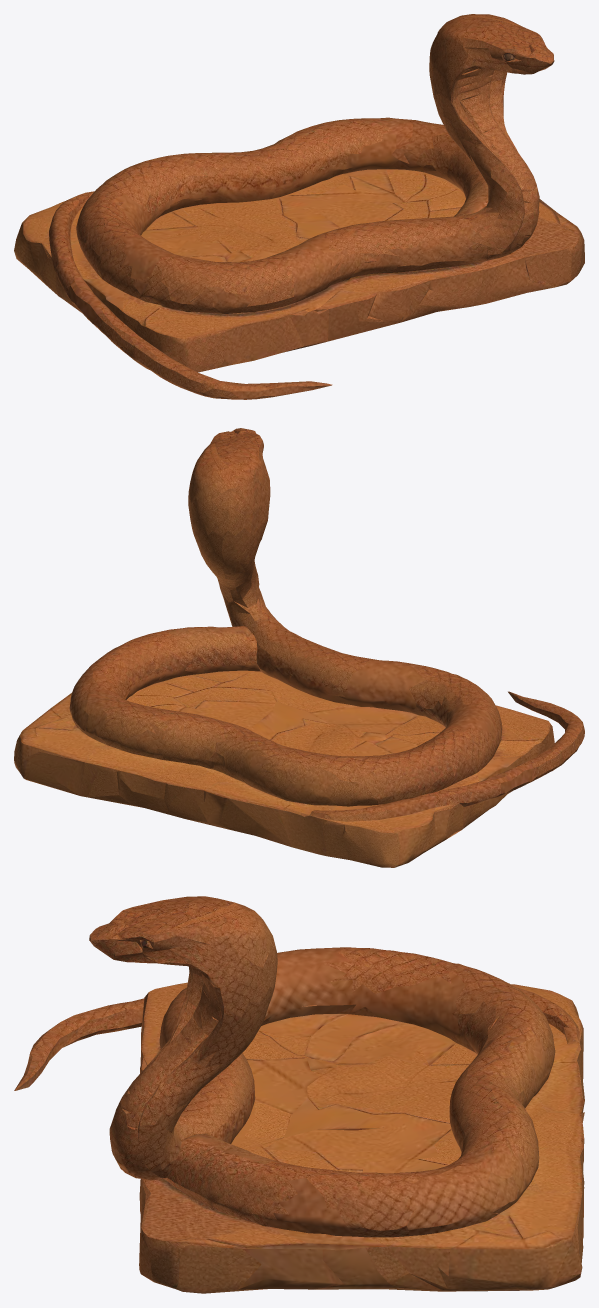
File: cobra.glb
3 views of the same model, one above another, from view 1: azimuth 30°, elevation 25°; view 2: azimuth 150°, elevation 25°; view 3: azimuth 270°, elevation 25° (orthographic). The views are drawn at different scales.
Visible parts, largest first — view 1: mesh_node; view 2: mesh_node; view 3: mesh_node.
Part boxes in pixels (<box>): mesh_node: <box>14,14,584,399</box>; mesh_node: <box>14,428,584,867</box>; mesh_node: <box>14,896,584,1293</box>.
Bounding box in the file's own units: 1.9 × 1.05 × 1.62.
1 material, 1 textured.
